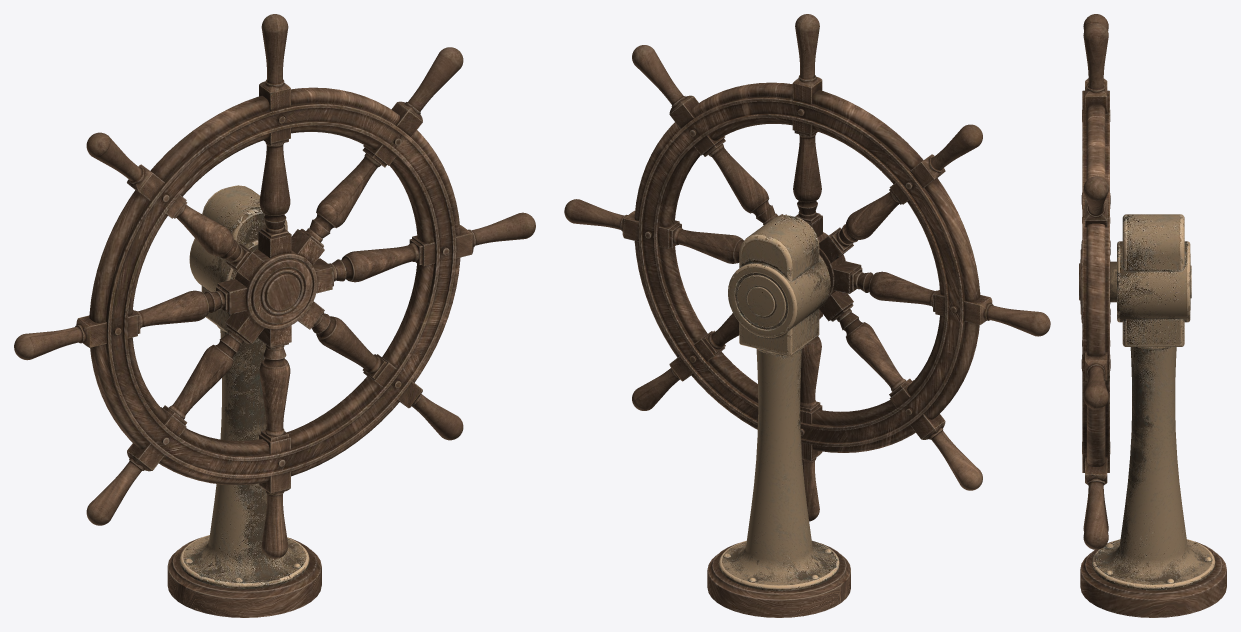
The model's file is ships_wheel.glb.
The picture shows the model from 3 angles, left to right: view 1: azimuth 30°, elevation 25°; view 2: azimuth 150°, elevation 25°; view 3: azimuth 270°, elevation 25°; orthographic projection. The views are drawn at different scales.
Parts seen in each view (by area): view 1: Wheel, Brass_Base; view 2: Wheel, Brass_Base; view 3: Brass_Base, Wheel.
Part boxes in pixels (box(x1,y1,x2,y2)): Wheel: box(14, 14, 535, 558); Brass_Base: box(167, 185, 321, 617); Wheel: box(564, 14, 1050, 521); Brass_Base: box(707, 215, 850, 617); Brass_Base: box(1080, 214, 1226, 617); Wheel: box(1079, 14, 1116, 549).
Size of the model in its own units: 148 by 162 by 38.54.
4 materials, 4 textured.
